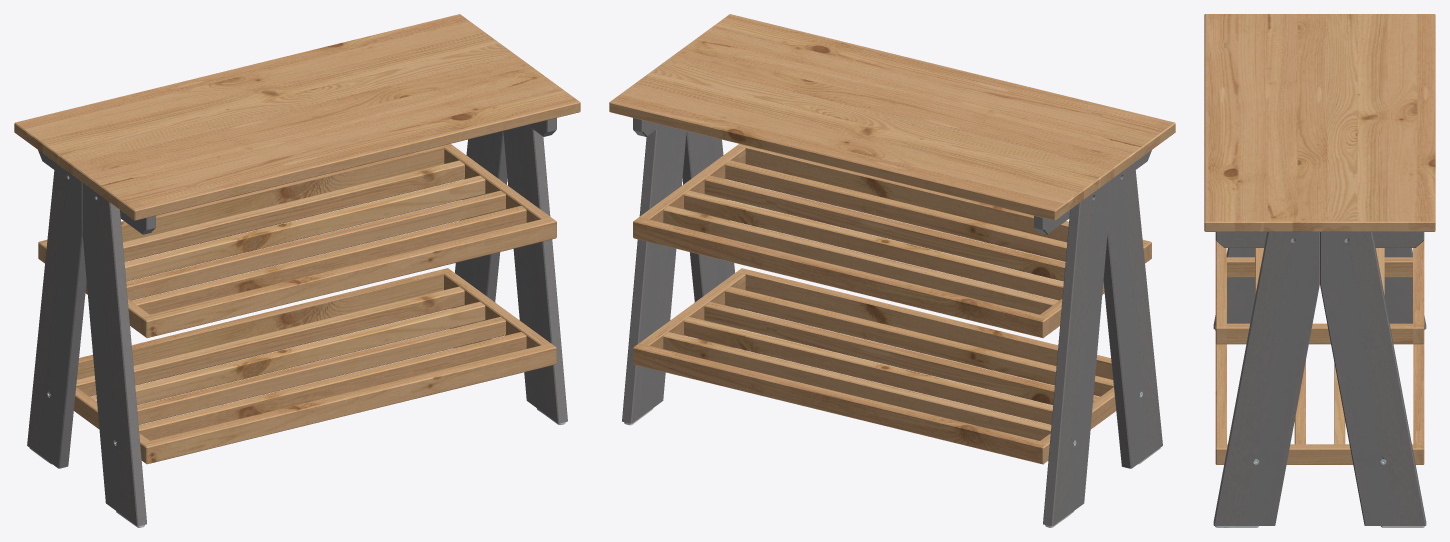
The picture shows the model from 3 angles, left to right: view 1: azimuth 30°, elevation 25°; view 2: azimuth 150°, elevation 25°; view 3: azimuth 270°, elevation 25°; orthographic projection. The views are drawn at different scales.
Visible parts, largest first — view 1: ASY_ART_20599328_S01_NV01; view 2: ASY_ART_20599328_S01_NV01; view 3: ASY_ART_20599328_S01_NV01.
Part boxes in pixels (x1,y1,x2,y2): ASY_ART_20599328_S01_NV01: (14, 14, 580, 527); ASY_ART_20599328_S01_NV01: (609, 14, 1175, 527); ASY_ART_20599328_S01_NV01: (1204, 14, 1435, 527).
Bounding box in the file's own units: 0.8 × 0.555 × 0.375.
Materials: 1 (1 with a texture image).
